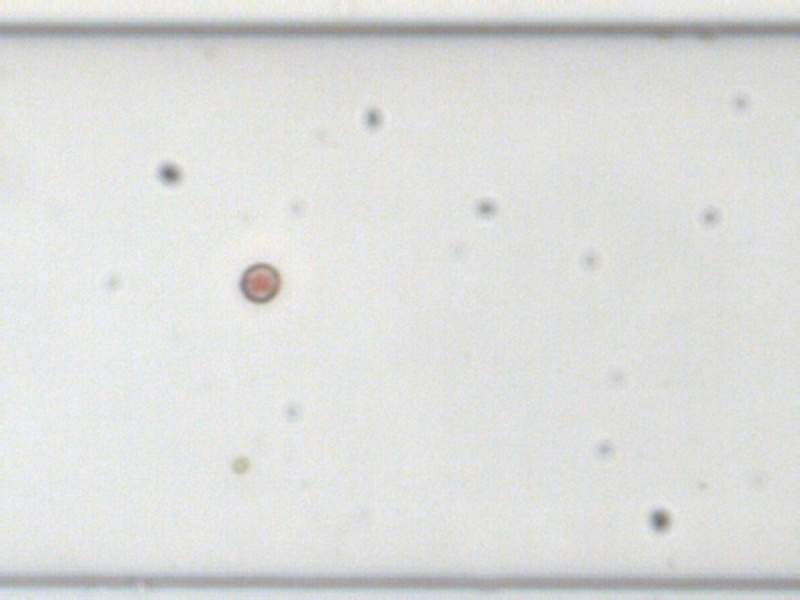Chlorella: (231, 453, 252, 472)
Porphyridium: (236, 262, 281, 305)
